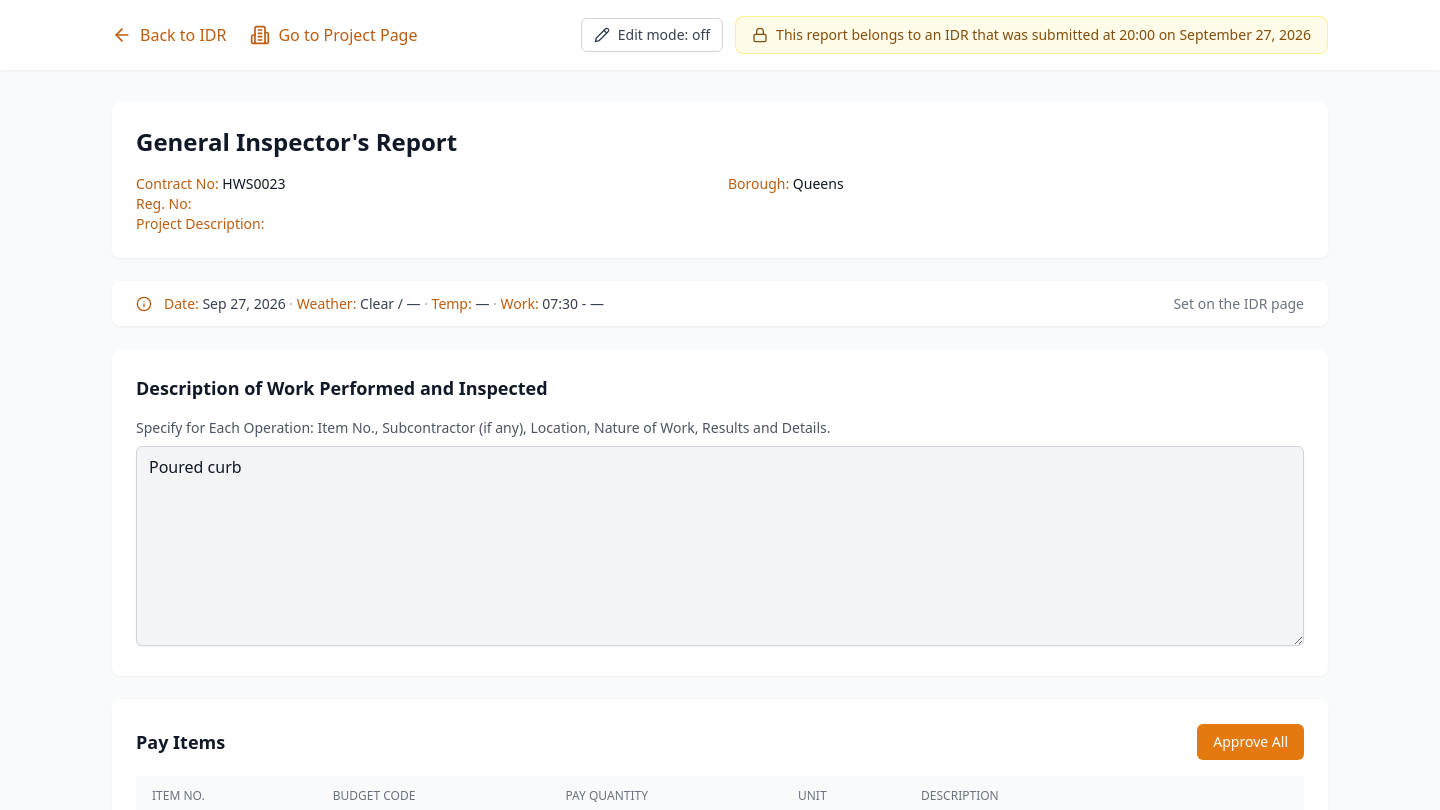
Test: report page in review — edit mode › is offered to the reviewer who accepted the IDR, off by default, with no pencils until it is on
Click the button "Edit mode: off" at {"x": 652, "y": 35}, box [581,18,723,52]
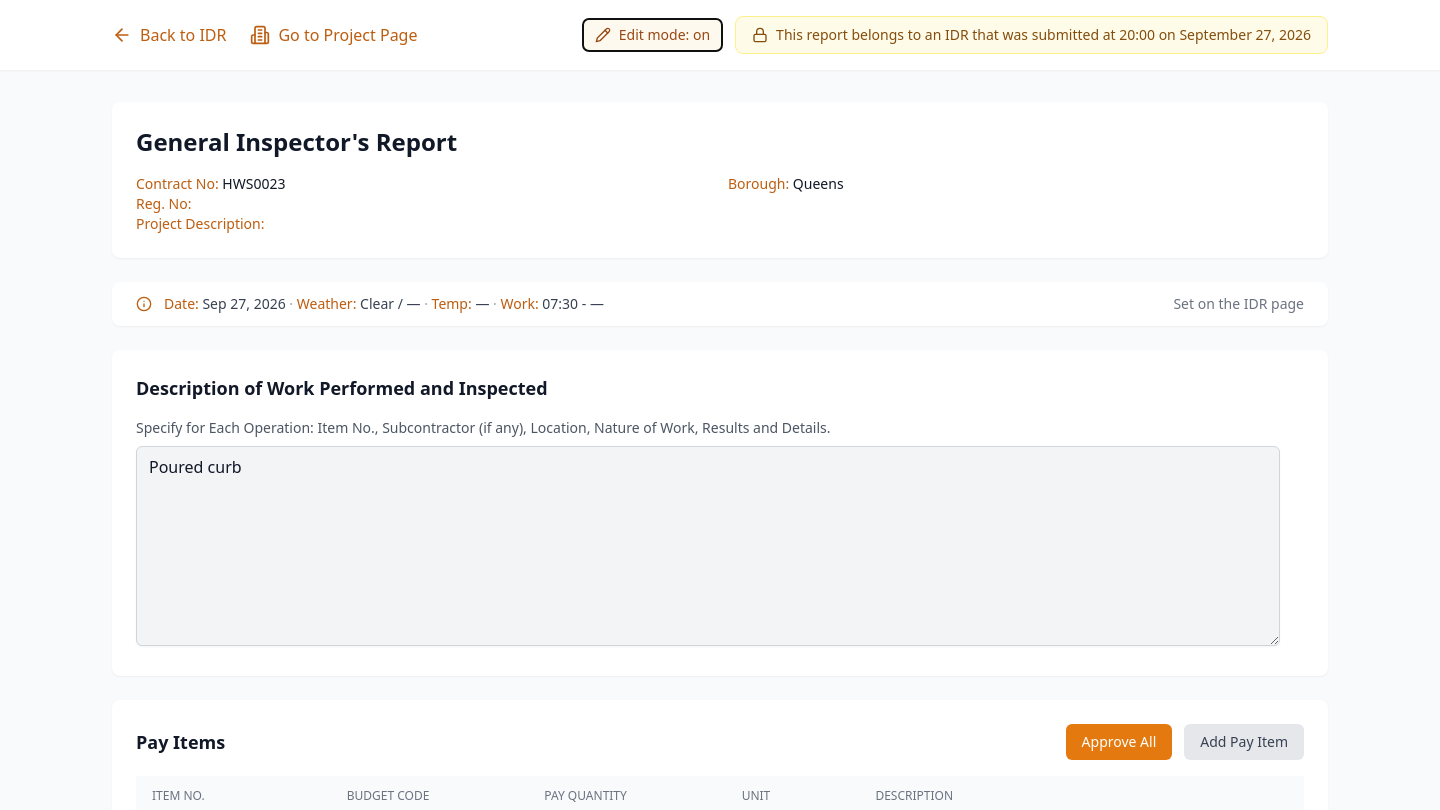
Expected: the button "Edit mode: on" is shown, [582,18,723,52]
